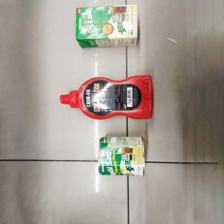Chinsu: (60, 75, 155, 120)
NSPN_Hop: (75, 4, 140, 49)
NSPN_Lon: (96, 135, 147, 177)
